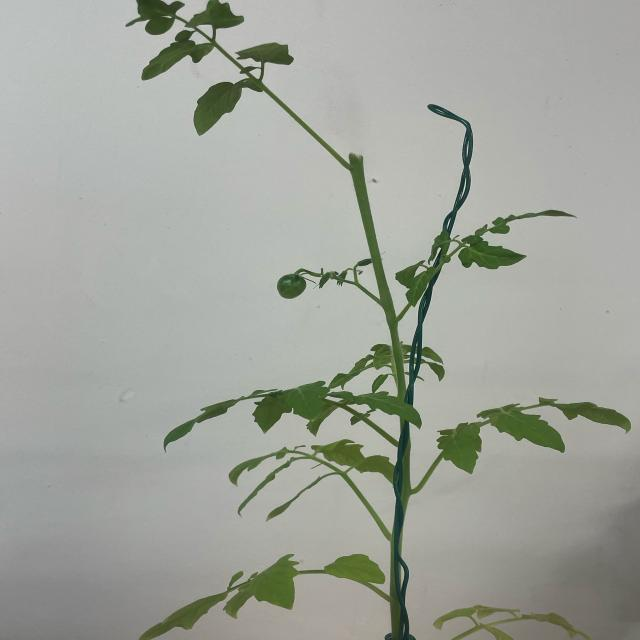level 1: (280, 270, 306, 301)
